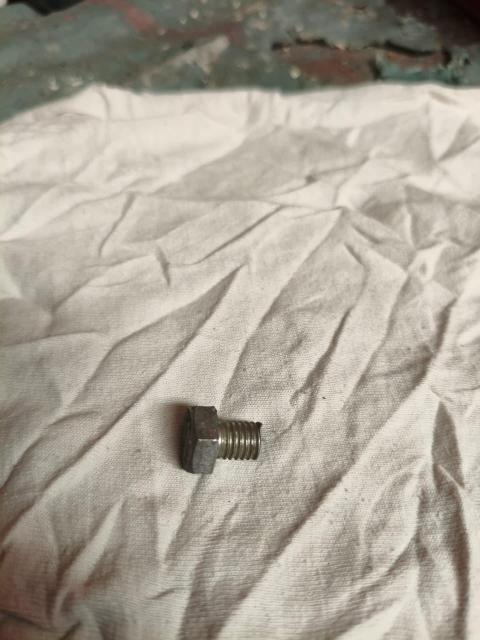Metal: (172, 400, 263, 477)
